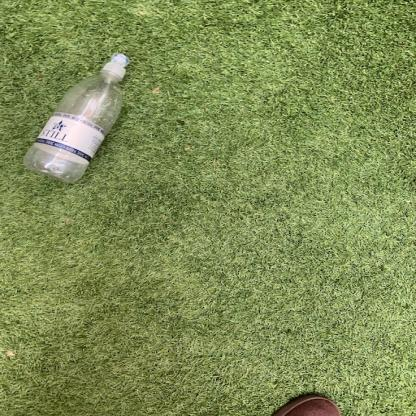trash: (20, 53, 131, 183)
